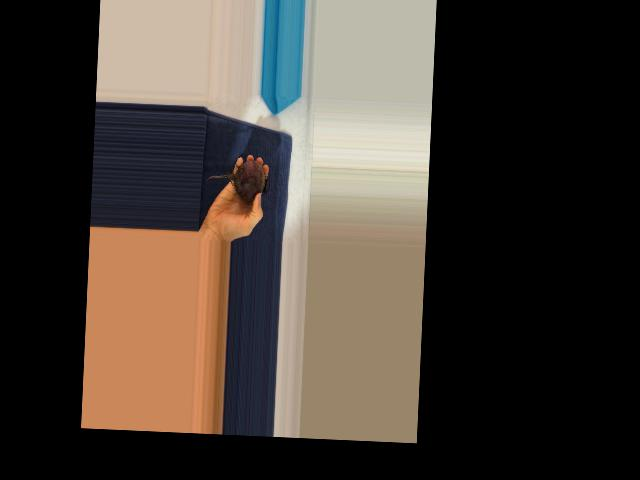beet: (205, 157, 270, 201)
